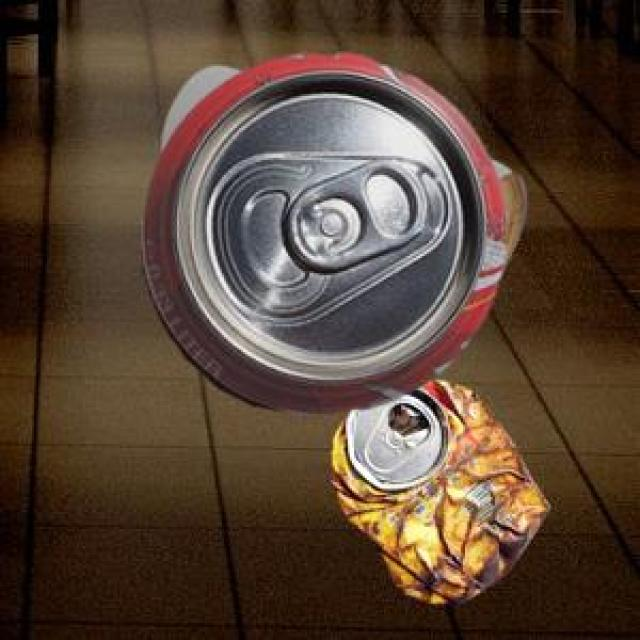logam: (138, 50, 502, 411), (330, 377, 547, 603), (160, 63, 419, 236)
